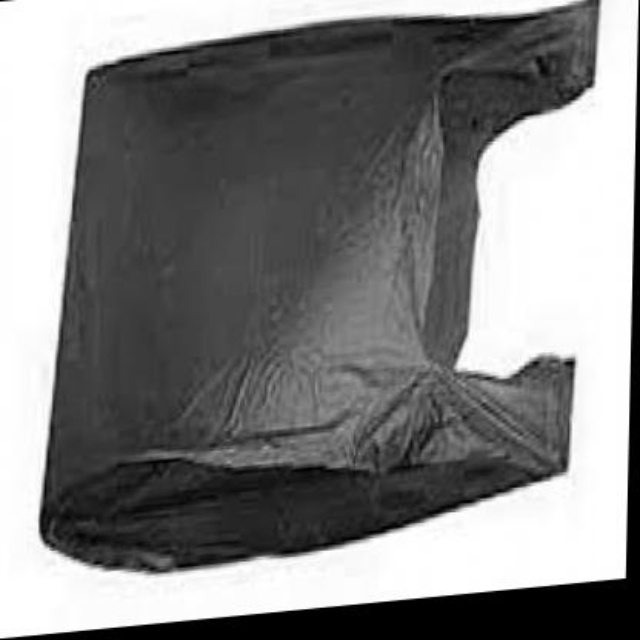trash: (40, 0, 597, 569)
